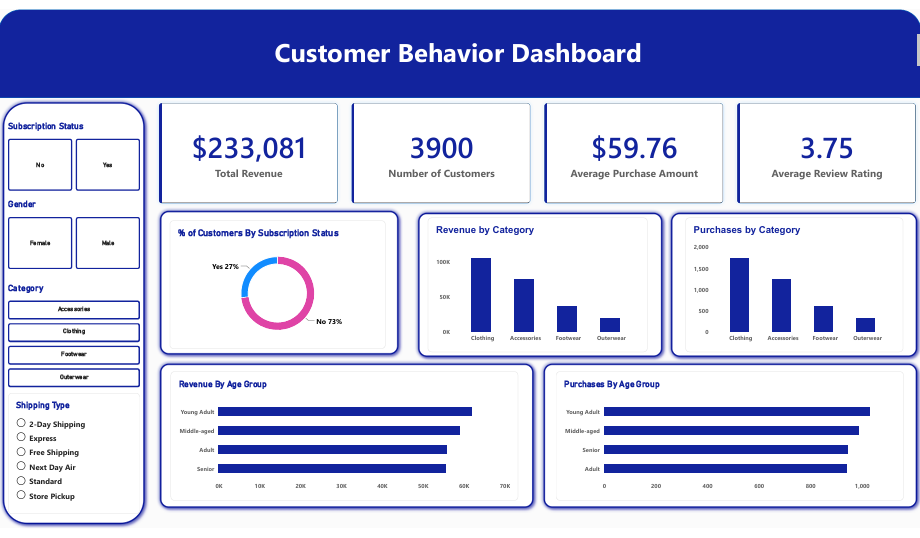

Layout of this report page (visuals, bound fields, positions):
{"tool":"powerbi","page":{"name":"Page 1","canvas":[1920,1080],"ordinal":0},"visuals":[{"type":"cardVisual","fields":{"Data":["public customer.Total Revenue","public customer.Number of Customers","public customer.Average Purchase Amount","public customer.Average Review Rating"]},"box":[322.7,184.4,1597.6,229.2],"z":0},{"type":"shape","box":[326.6,728.3,795.5,317.4],"z":0},{"type":"shape","box":[0,0,1920,183.9],"z":1},{"type":"textbox","box":[0,51.4,1920.3,67.2],"z":2},{"type":"shape","box":[326.9,410.4,513.7,317.4],"z":3,"group":"g1"},{"type":"donutChart","title":"% of Customers By Subscription Status","fields":{"Category":["public customer.subscription_status"],"Y":["CountNonNull(public customer.customer_id)"]},"box":[356,438.9,449.1,267.4],"z":4,"group":"g1"},{"type":"shape","box":[864,413.6,525.5,318.7],"z":5},{"type":"shape","box":[1389.5,413.6,530.8,318.7],"z":6},{"type":"clusteredColumnChart","title":"Revenue by Category","fields":{"Category":["public customer.category"],"Y":["Sum(public customer.purchase_amount)"]},"box":[893,433.3,457,279.2],"z":7},{"type":"clusteredColumnChart","title":"Purchases by Category","fields":{"Category":["public customer.category"],"Y":["CountNonNull(public customer.customer_id)"]},"box":[1429,433.3,453.1,279.2],"z":8},{"type":"shape","box":[0,184.4,313.5,895.6],"z":9},{"type":"advancedSlicerVisual","title":"Subscription Status","fields":{"Values":["public customer.subscription_status"]},"box":[19.8,231.8,274,144.9],"z":10},{"type":"advancedSlicerVisual","title":"Gender","fields":{"Values":["public customer.gender"]},"box":[19.8,395.1,274,144.9],"z":11},{"type":"group","id":"g1","title":"Group 1","box":[326.9,410.4,513.7,317.4],"z":12},{"type":"advancedSlicerVisual","title":"Category","fields":{"Values":["public customer.category"]},"box":[19.8,569,274,220],"z":13},{"type":"listSlicer","fields":{"Values":["public customer.shipping_type"]},"box":[19.8,798.1,274,251.6],"z":14},{"type":"clusteredBarChart","title":"Revenue By Age Group","fields":{"Category":["public customer.age_group"],"Y":["Sum(public customer.purchase_amount)"]},"box":[358.2,753.4,723.1,268.7],"z":15},{"type":"shape","box":[1124.8,728.3,795.5,317.4],"z":16},{"type":"clusteredBarChart","title":"Purchases By Age Group","fields":{"Category":["public customer.age_group"],"Y":["CountNonNull(public customer.customer_id)"]},"box":[1160.3,753.4,723.1,268.7],"z":17}]}

Visuals, with their boxes in screenshot pixels (x1, y1, x2, y2):
cardVisual - public customer.Total Revenue x public customer.Number of Customers: x1=158 y1=95 x2=919 y2=207
shape: x1=160 y1=362 x2=550 y2=517
shape: x1=0 y1=5 x2=919 y2=95
textbox: x1=0 y1=30 x2=919 y2=63
shape: x1=160 y1=206 x2=412 y2=361
"% of Customers By Subscription Status" donutChart: x1=174 y1=220 x2=394 y2=351
shape: x1=423 y1=207 x2=681 y2=364
shape: x1=681 y1=207 x2=919 y2=364
"Revenue by Category" clusteredColumnChart: x1=437 y1=217 x2=661 y2=354
"Purchases by Category" clusteredColumnChart: x1=700 y1=217 x2=919 y2=354
shape: x1=0 y1=95 x2=154 y2=534
"Subscription Status" advancedSlicerVisual: x1=10 y1=118 x2=144 y2=189
"Gender" advancedSlicerVisual: x1=10 y1=198 x2=144 y2=269
"Group 1" group: x1=160 y1=206 x2=412 y2=361
"Category" advancedSlicerVisual: x1=10 y1=284 x2=144 y2=391
listSlicer - public customer.shipping_type: x1=10 y1=396 x2=144 y2=519
"Revenue By Age Group" clusteredBarChart: x1=175 y1=374 x2=530 y2=506
shape: x1=551 y1=362 x2=919 y2=517
"Purchases By Age Group" clusteredBarChart: x1=568 y1=374 x2=919 y2=506
